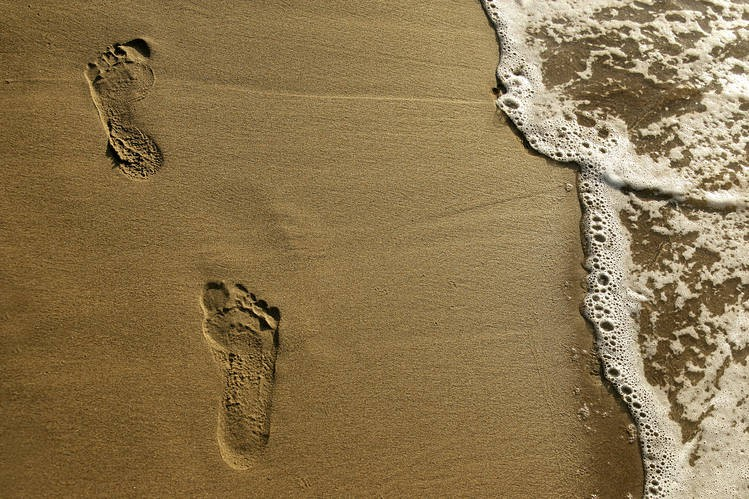human_foot_print: (188, 268, 291, 470), (83, 35, 179, 187)
